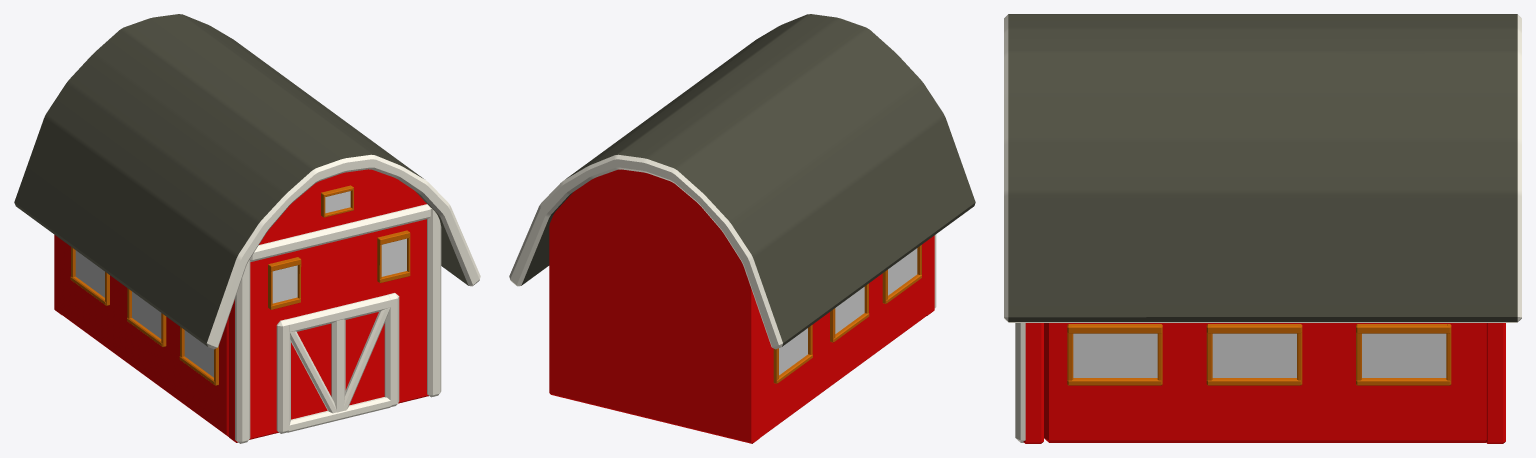
The model's file is Warehouse.fbx.
3 views of the same model, side by side, from view 1: azimuth 30°, elevation 25°; view 2: azimuth 150°, elevation 25°; view 3: azimuth 270°, elevation 25° (orthographic). The views are drawn at different scales.
Visible parts, largest first — view 1: pCube33; view 2: pCube33; view 3: pCube33.
Boxes of the visible parts, x1,y1,x2,y2 form: pCube33: (14,14,480,443); pCube33: (509,14,975,443); pCube33: (1004,14,1521,443).
Bounding box in the file's own units: 20.07 × 18.51 × 24.82.
2 materials, 1 textured.
